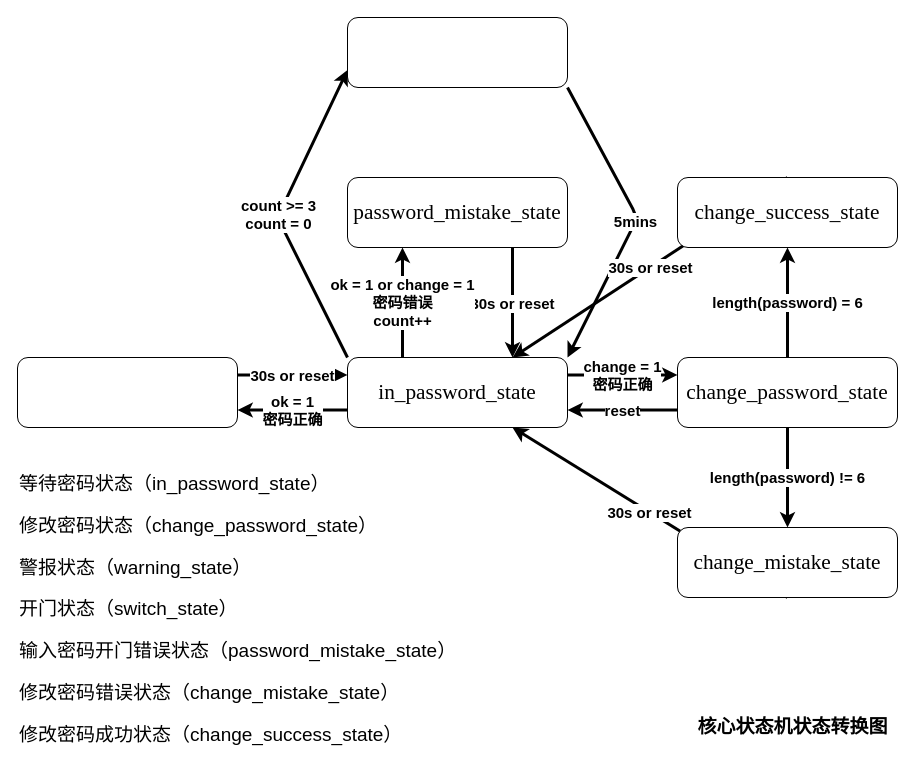
Some shapes in this 915 by 784 pixel diagram are drawn without their labels. The shapes that lost their labels are listed below. From the top down, each one's centre as x and y in pixels, then its label:
At [457,52]: "warning_state".
At [127,392]: "switch_state".
